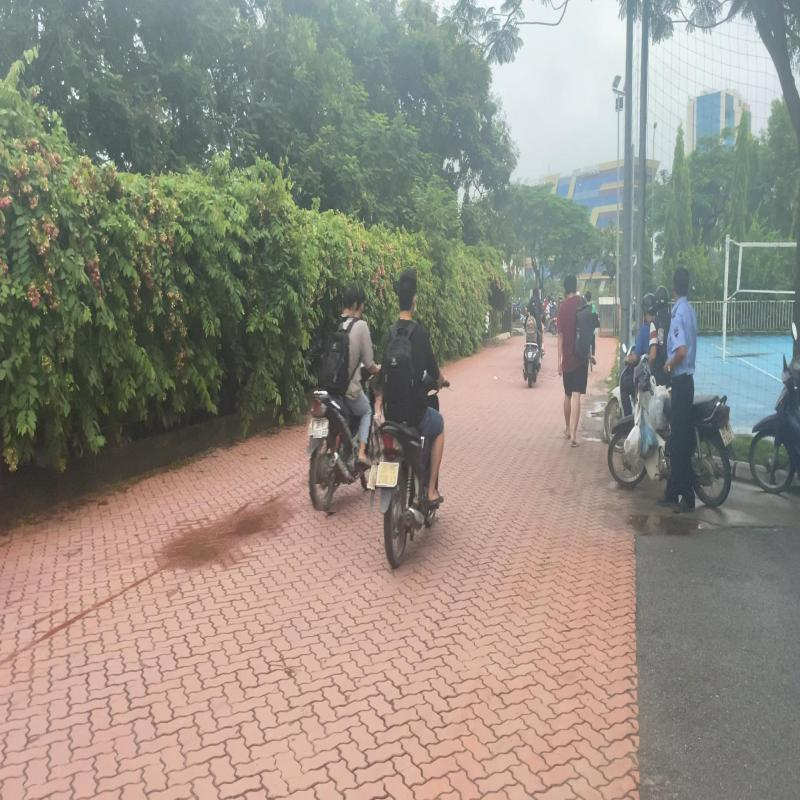licenseplate: (376, 462, 399, 488), (312, 420, 330, 438)
motorcyclist: (375, 267, 452, 572), (304, 278, 388, 514)
nohelmet: (397, 268, 416, 318), (341, 282, 358, 318)
